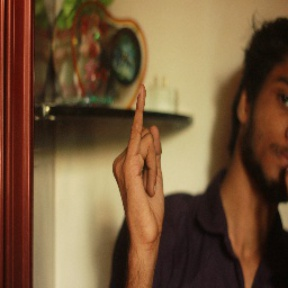I: (110, 82, 170, 241)
